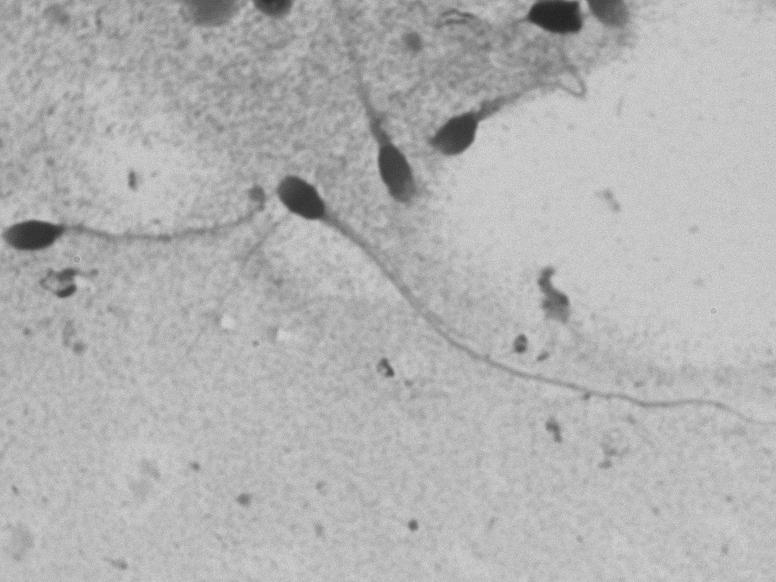Abnormal: (2, 156, 247, 291), (331, 45, 431, 210)
Normal: (261, 157, 767, 449)
